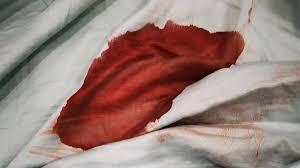blood: (55, 23, 217, 142)
